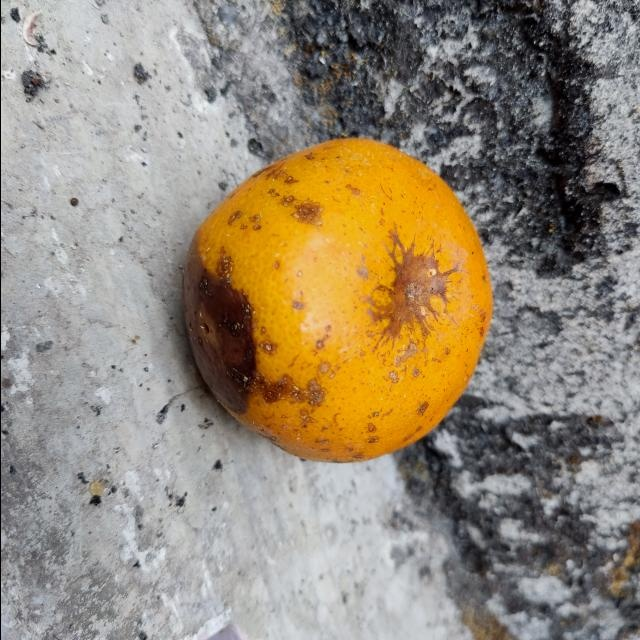agrume: (182, 135, 494, 465)
